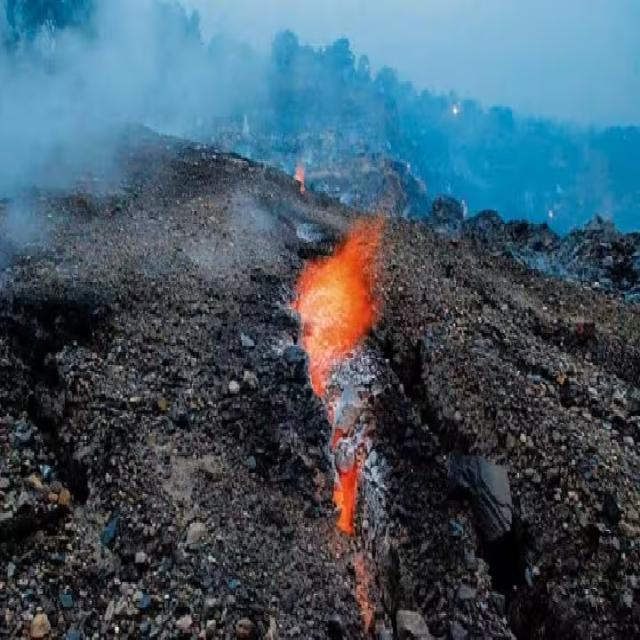fire: (297, 218, 379, 394), (333, 465, 359, 532)
